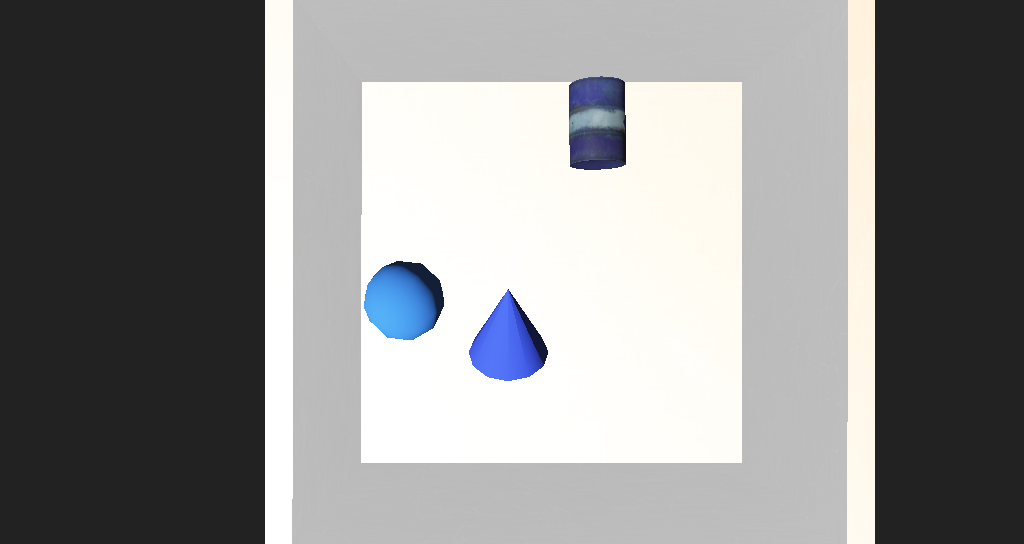cone: (522, 160, 569, 212)
cylinder: (431, 262, 499, 329)
sphere: (360, 265, 421, 308)
